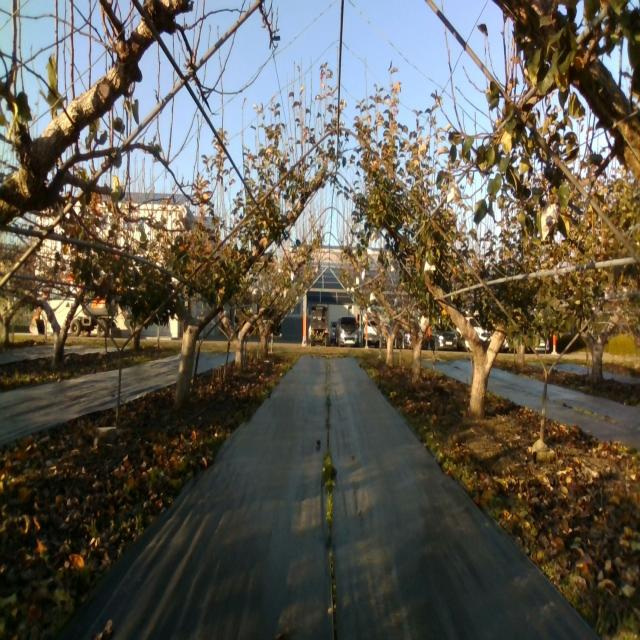pearbags: (540, 203, 560, 240), (177, 203, 194, 233), (447, 182, 462, 208)
